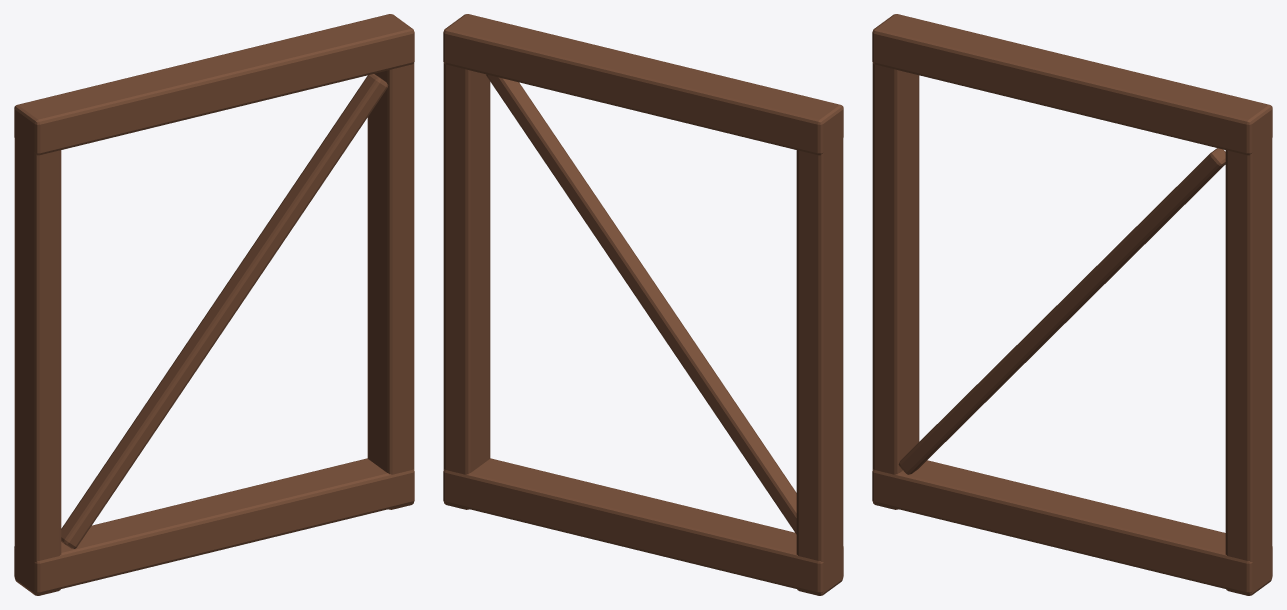
Rendered from wall_plain_2m__structure.glb.
3 views of the same model, side by side, from view 1: azimuth 30°, elevation 25°; view 2: azimuth 150°, elevation 25°; view 3: azimuth 330°, elevation 25° (orthographic).
Parts seen in each view (by area): view 1: wall_plain_2m__structure__mesh_00; view 2: wall_plain_2m__structure__mesh_00; view 3: wall_plain_2m__structure__mesh_00.
Boxes of the visible parts, box(x1,y1,x2,y2) form: wall_plain_2m__structure__mesh_00: box(14, 14, 414, 595); wall_plain_2m__structure__mesh_00: box(443, 14, 843, 595); wall_plain_2m__structure__mesh_00: box(872, 14, 1272, 595).
Size of the model in its own units: 2 by 2.4 by 0.2315.
